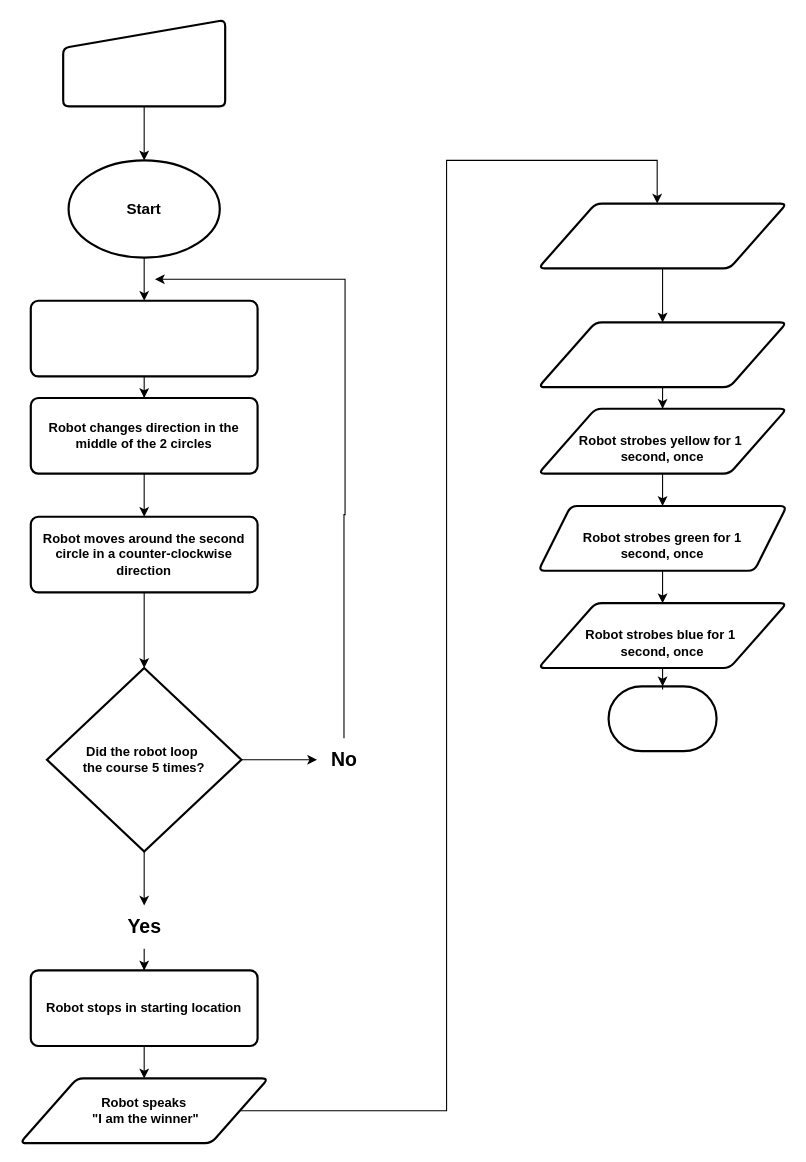
Some shapes in this 806 by 1162 pixel diagram are drawn without their labels. The box of each missing label's shape, as (x1, y1, x2, y2) in pixels:
End: (607, 685, 717, 752)
Place robot in the middle of the 2 circles: (62, 18, 226, 107)
Robot moves around the first circle going in a clockwise direction: (29, 299, 258, 377)
Robot strobes orange for 1 second, once: (537, 321, 787, 388)
Robot strobes red for 1 second, once: (537, 202, 787, 269)
